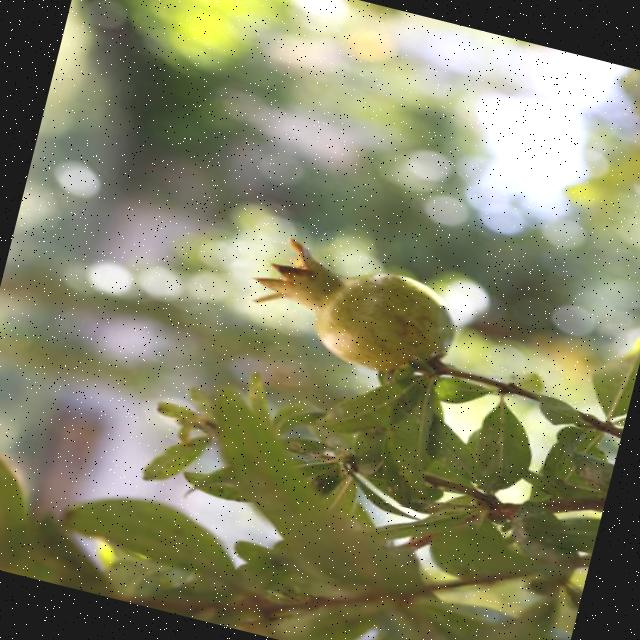Unripe: (240, 231, 469, 388)
